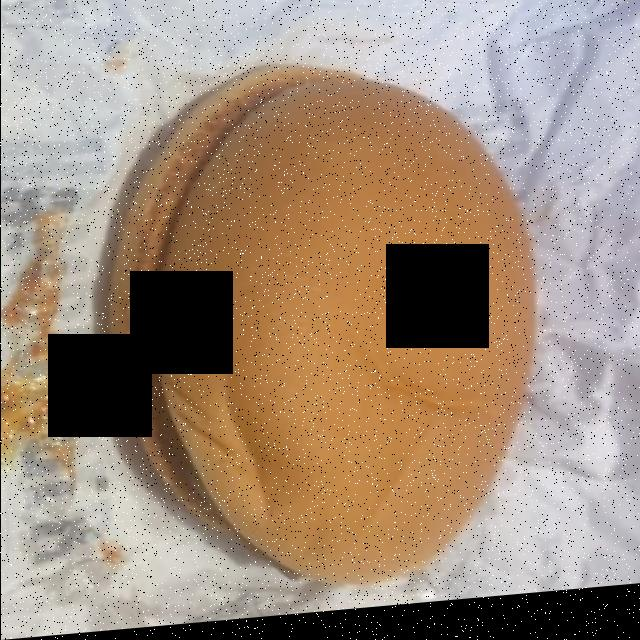hamburger-bread-meat-ketchup: (105, 77, 526, 577)
